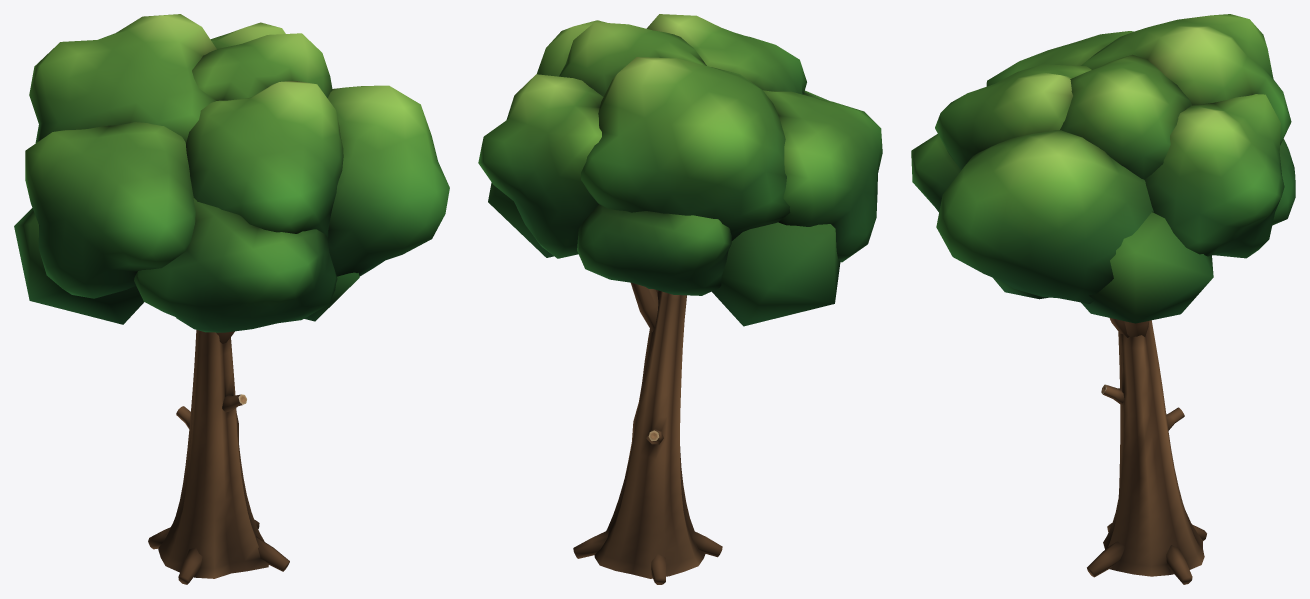
File: tree-standing-a-v2.glb
3 renders of one model, left to right at view 1: azimuth 30°, elevation 25°; view 2: azimuth 150°, elevation 25°; view 3: azimuth 270°, elevation 25°, orthographic. The views are drawn at different scales.
Visible parts, largest first — view 1: 1_leaves, 0_trunk; view 2: 1_leaves, 0_trunk; view 3: 1_leaves, 0_trunk.
Part boxes in pixels (<box>): 1_leaves: <box>14,14,449,332</box>; 0_trunk: <box>148,330,289,584</box>; 1_leaves: <box>478,14,882,326</box>; 0_trunk: <box>573,282,722,584</box>; 1_leaves: <box>911,14,1295,323</box>; 0_trunk: <box>1087,318,1206,584</box>.
Size of the model in its own units: 4.6 by 6.58 by 4.44.
